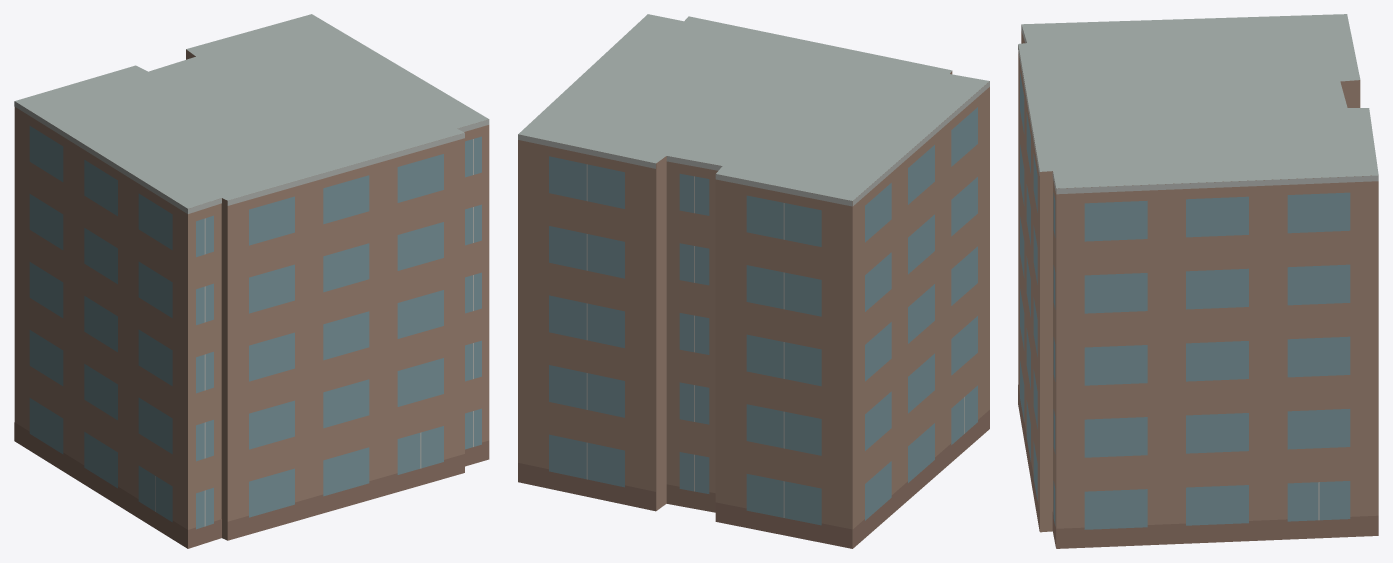
The model's file is survey-upis-32739382.glb.
The picture shows the model from 3 angles, left to right: view 1: azimuth 30°, elevation 25°; view 2: azimuth 150°, elevation 25°; view 3: azimuth 270°, elevation 25°; orthographic projection. The views are drawn at different scales.
Parts seen in each view (by area): view 1: survey-upis-32739382.tmp; view 2: survey-upis-32739382.tmp; view 3: survey-upis-32739382.tmp.
Boxes of the visible parts, <box> form: survey-upis-32739382.tmp: <box>14,14,489,548</box>; survey-upis-32739382.tmp: <box>518,14,989,548</box>; survey-upis-32739382.tmp: <box>1018,14,1378,548</box>.
Bounding box in the file's own units: 15.9 × 15.3 × 13.89.
